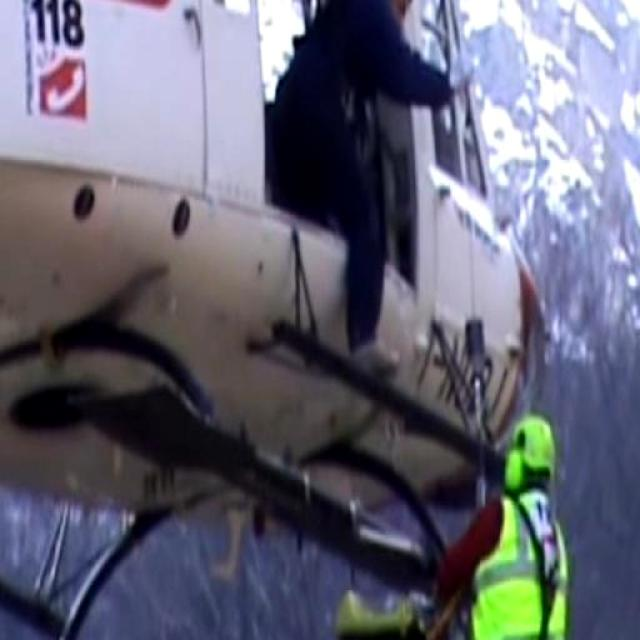drone: (0, 0, 502, 640)
